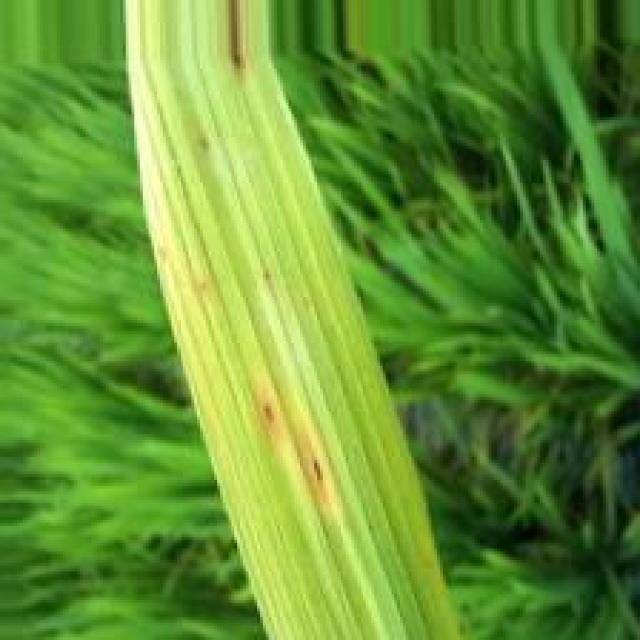Brown_Spot: (295, 442, 334, 509), (226, 0, 251, 75), (252, 399, 284, 441)
